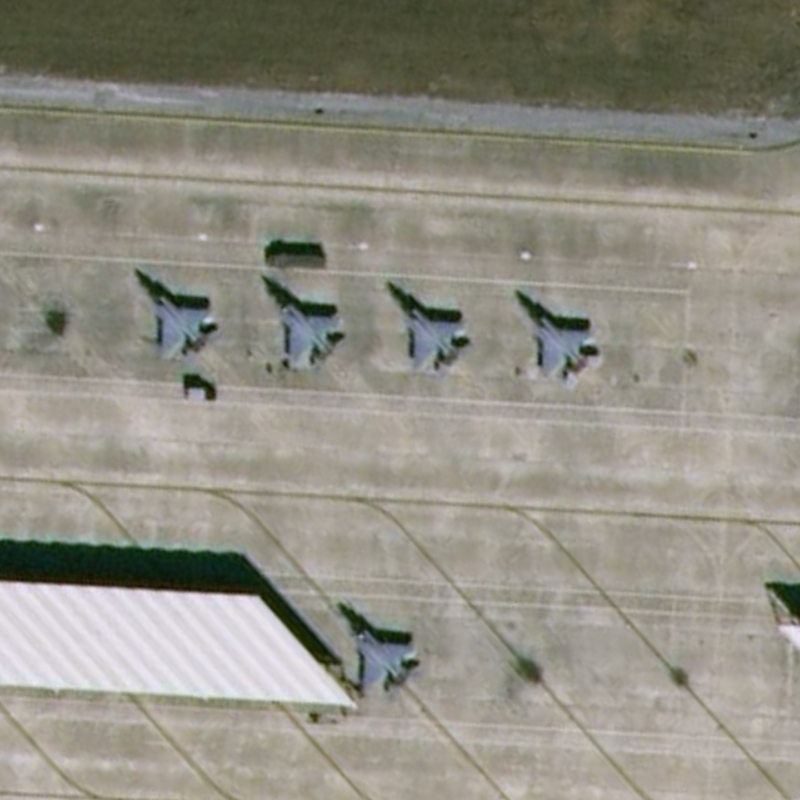A13: (382, 275, 480, 383), (331, 597, 425, 704), (512, 285, 606, 390), (261, 271, 348, 377), (132, 267, 226, 364)
